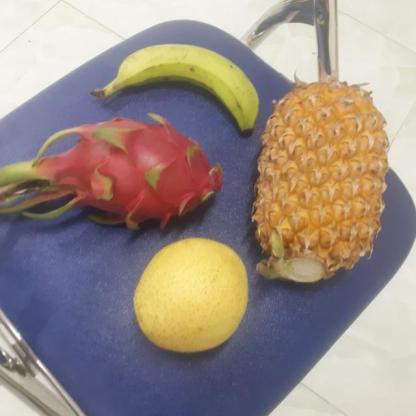banana: (110, 42, 262, 128)
guava: (136, 239, 253, 354)
pear: (132, 236, 253, 354)
pineapple: (251, 83, 392, 289)
pitaya: (44, 115, 239, 233)
